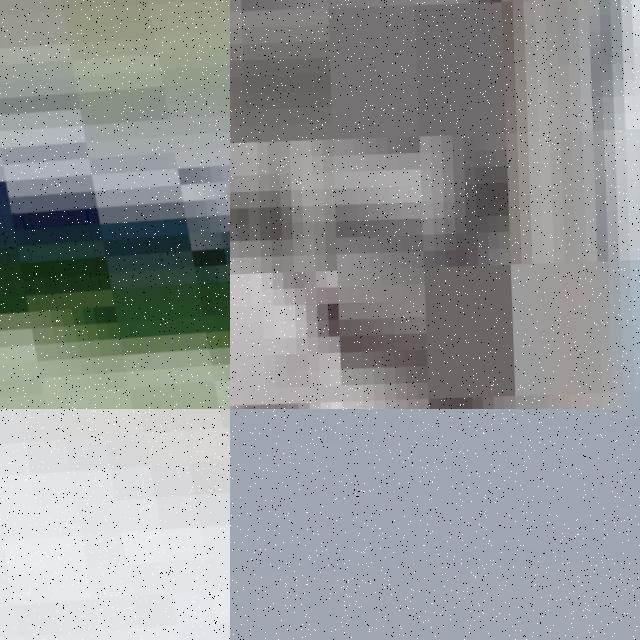0: (0, 0, 230, 409)
drone: (0, 409, 230, 640)
